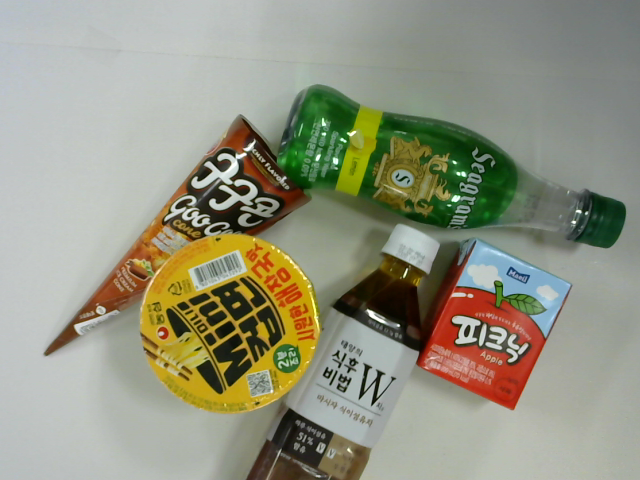GooGoo_Cone_CVS: (44, 116, 311, 359)
Hejangmini: (140, 238, 314, 417)
Picnic_Apple: (418, 238, 573, 415)
Post-meal_recipe_W_tea_500ml: (250, 227, 438, 480)
Seagram_Lemon_Carbonated_Water: (278, 81, 627, 253)
